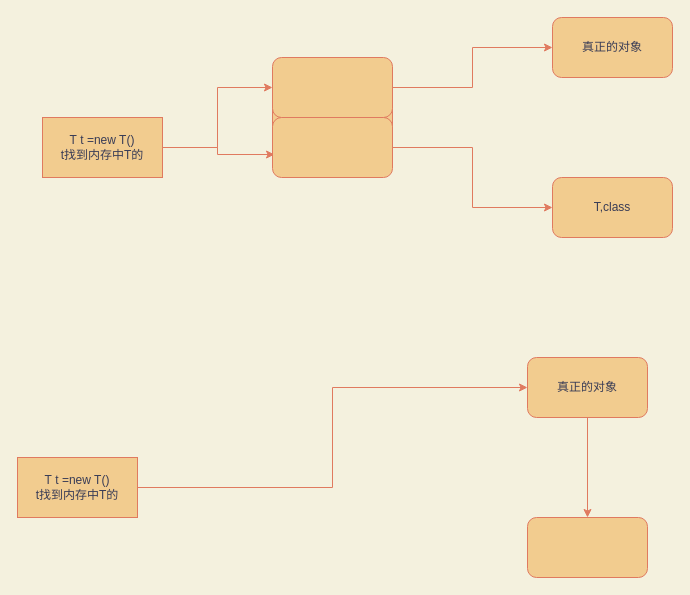
This 690x595 diagram has some shape labels left out. Here are the shapes that lost their labels. From the top down, the centre of each, then its label:
(x=332, y=87): 指针1
(x=332, y=147): 指针2
(x=587, y=547): T.class
